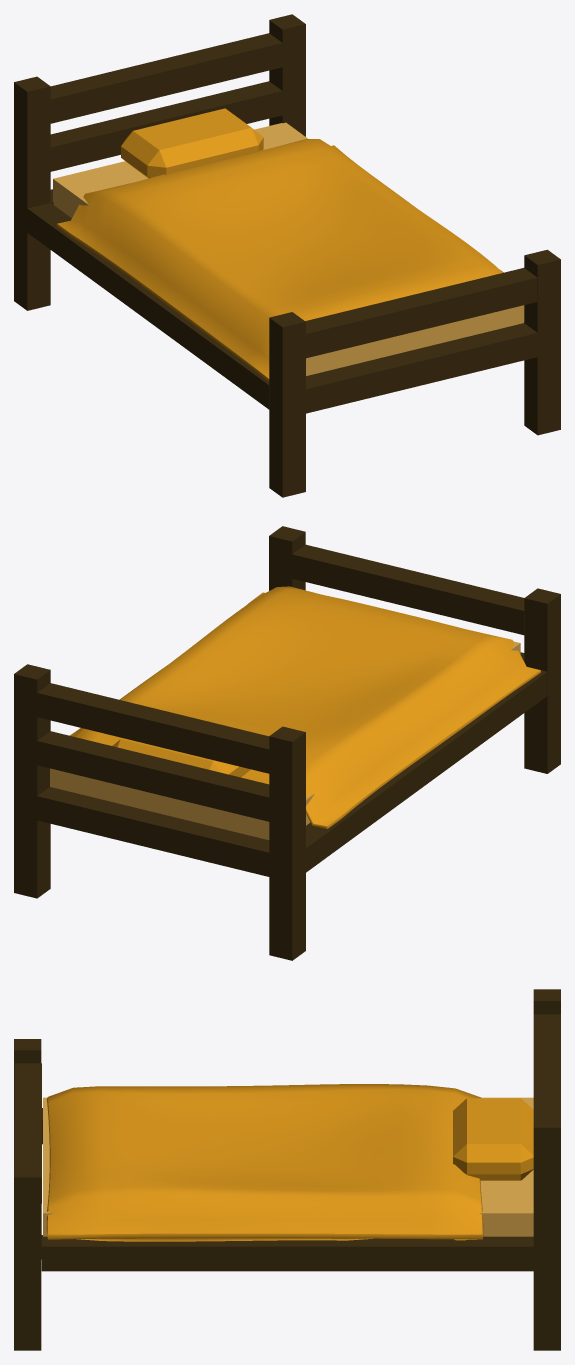
The model's file is krevet.FBX.
3 renders of one model, top to bottom at view 1: azimuth 30°, elevation 25°; view 2: azimuth 150°, elevation 25°; view 3: azimuth 270°, elevation 25°, orthographic.
Parts seen in each view (by area): view 1: Box1549, Box1550, Box1548; view 2: Box1549, Box1550, Box1548; view 3: Box1550, Box1549, Box1548.
Boxes of the visible parts, x1,y1,x2,y2 form: Box1549: (14, 14, 560, 497); Box1550: (56, 108, 503, 381); Box1548: (53, 122, 524, 375); Box1549: (14, 526, 560, 960); Box1550: (70, 586, 540, 828); Box1548: (50, 586, 520, 839); Box1550: (46, 1084, 533, 1241); Box1549: (14, 989, 560, 1350); Box1548: (43, 1097, 533, 1236).
Bounding box in the file's own units: 121 × 90 × 200.
